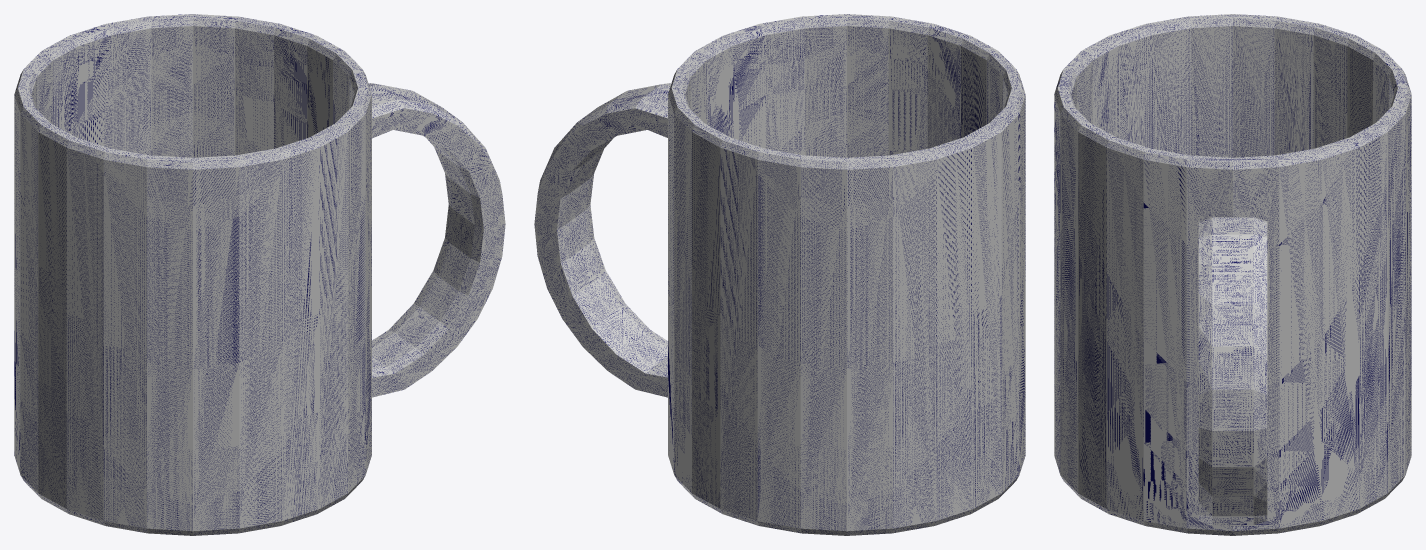
3 views of the same model, side by side, from view 1: azimuth 30°, elevation 25°; view 2: azimuth 150°, elevation 25°; view 3: azimuth 270°, elevation 25° (orthographic).
Visible parts, largest first — view 1: mesh1_mesh1-geometry; view 2: mesh1_mesh1-geometry; view 3: mesh1_mesh1-geometry.
Boxes of the visible parts, bbox=[...] form: mesh1_mesh1-geometry: bbox=[14, 14, 505, 535]; mesh1_mesh1-geometry: bbox=[534, 14, 1025, 535]; mesh1_mesh1-geometry: bbox=[1054, 14, 1411, 535].
Bounding box in the file's own units: 0.6943 × 0.5438 × 0.4713.
